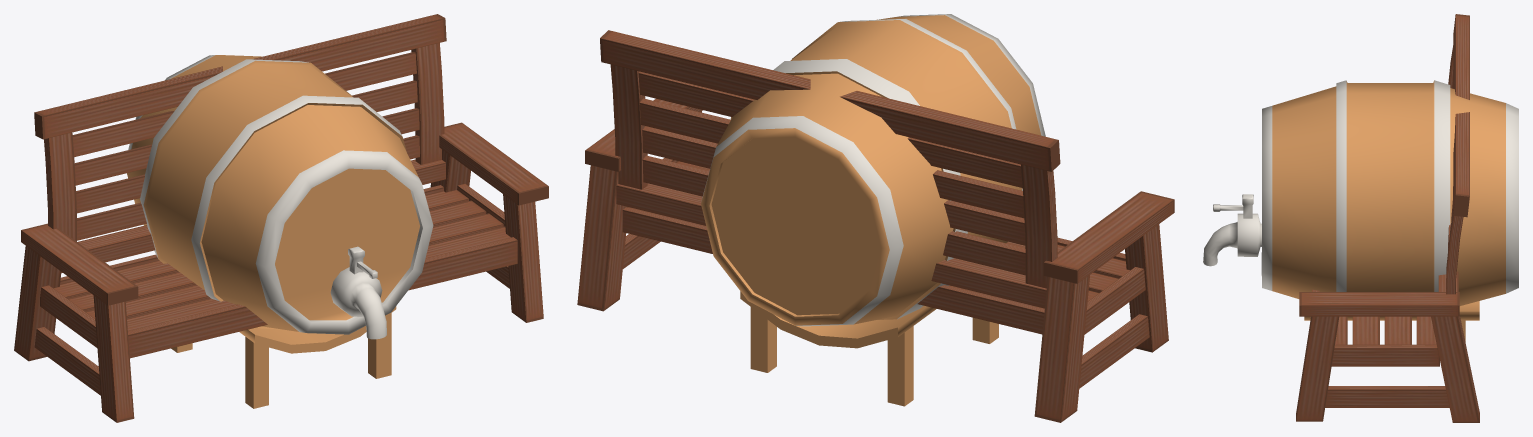
Rendered from HardWoodBenchHand.fbx.
3 views of the same model, side by side, from view 1: azimuth 30°, elevation 25°; view 2: azimuth 150°, elevation 25°; view 3: azimuth 270°, elevation 25° (orthographic). The views are drawn at different scales.
Parts seen in each view (by area): view 1: Bin (1), Keg (1); view 2: Bin (1), Keg (1); view 3: Keg (1), Bin (1).
Boxes of the visible parts, x1,y1,x2,y2 form: Bin (1): (14, 14, 548, 422); Keg (1): (127, 55, 433, 408); Bin (1): (577, 30, 1174, 422); Keg (1): (701, 14, 1045, 406); Keg (1): (1203, 80, 1518, 342); Bin (1): (1296, 14, 1479, 422).
Size of the model in its own units: 1.17 by 0.7134 by 0.7864.
